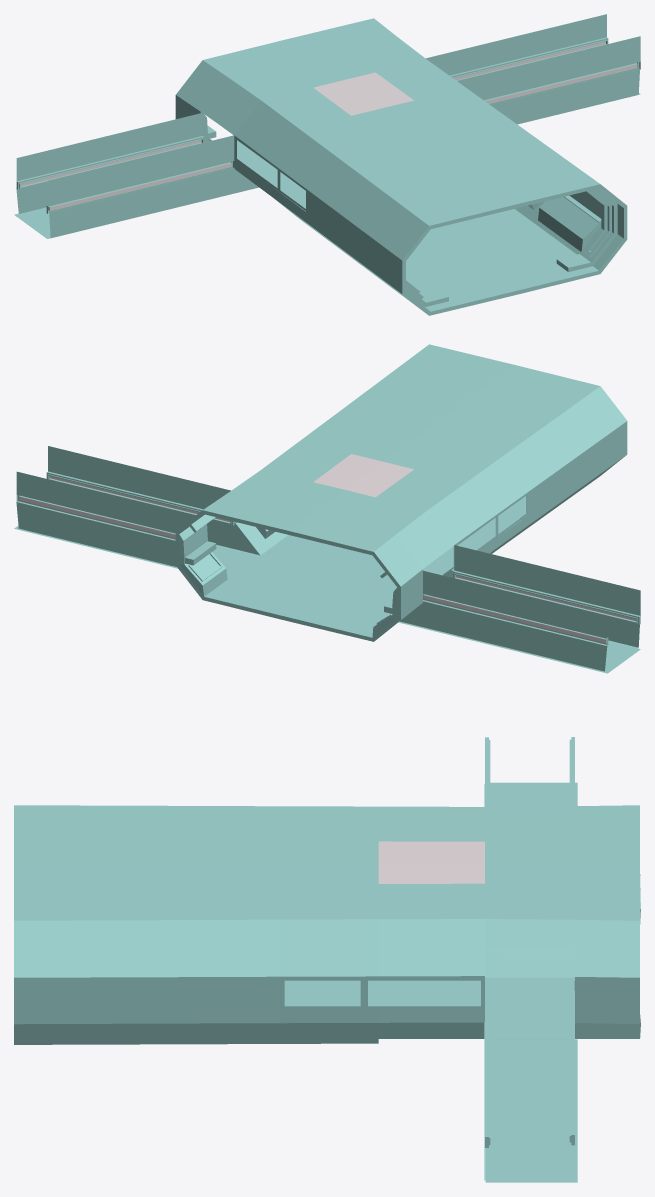
Rendered from el escenario.fbx.
3 views of the same model, one above another, from view 1: azimuth 30°, elevation 25°; view 2: azimuth 150°, elevation 25°; view 3: azimuth 270°, elevation 25° (orthographic). The views are drawn at different scales.
Visible parts, largest first — view 1: Cube; view 2: Cube; view 3: Cube.
Part boxes in pixels (<box>): Cube: <box>14,14,640,315</box>; Cube: <box>14,344,640,673</box>; Cube: <box>14,737,640,1182</box>.
Bounding box in the file's own units: 2531 × 369 × 1675.
